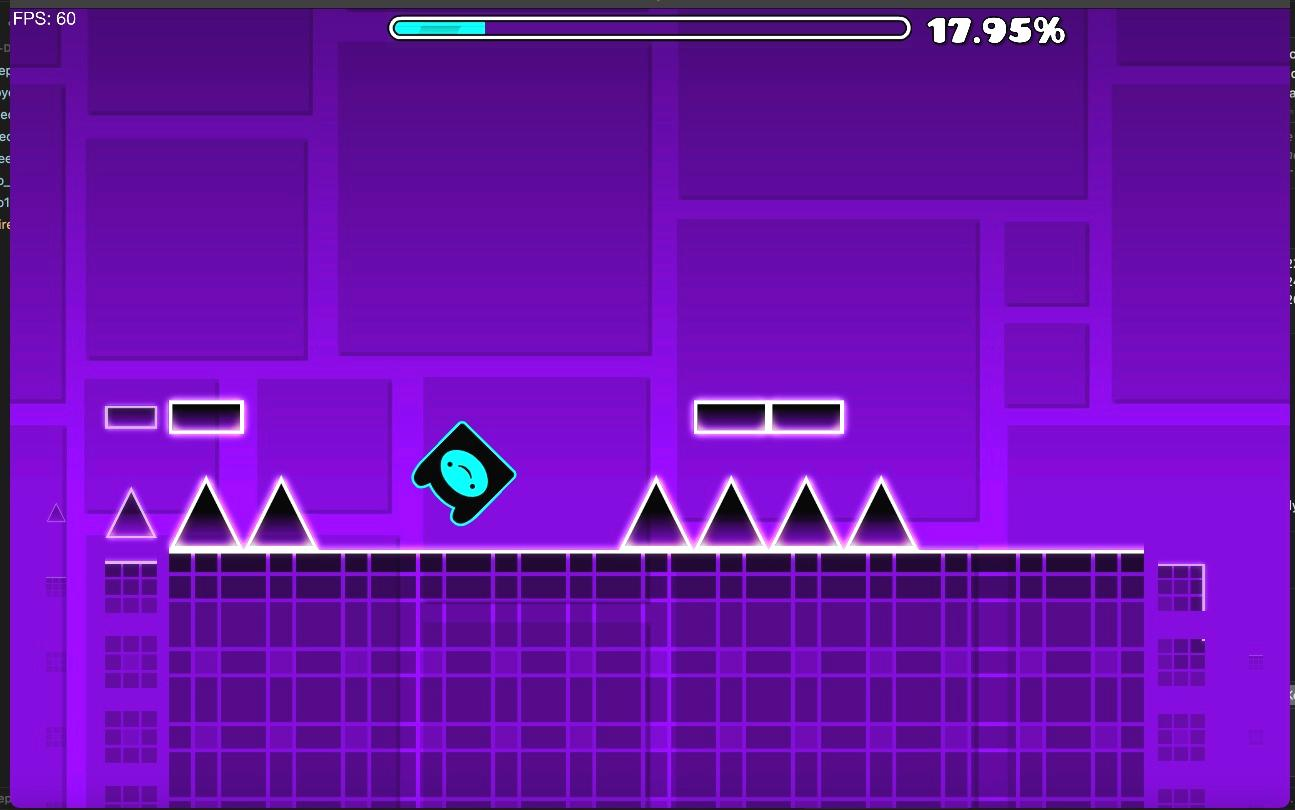block: (167, 555, 1140, 810)
platform: (693, 400, 844, 434), (166, 399, 243, 435), (104, 405, 161, 429)
player: (412, 422, 515, 525)
spike: (622, 477, 915, 549), (168, 476, 317, 550)
